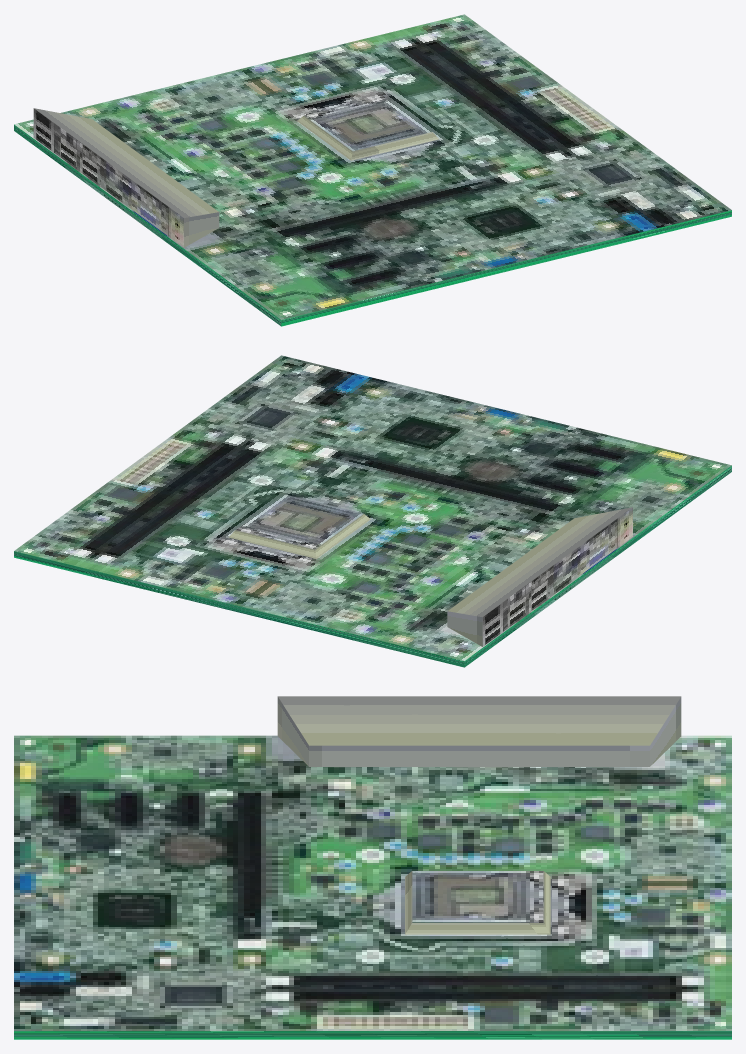
The model's file is motherboard.glb.
3 views of the same model, one above another, from view 1: azimuth 30°, elevation 25°; view 2: azimuth 150°, elevation 25°; view 3: azimuth 270°, elevation 25° (orthographic). The views are drawn at different scales.
Visible parts, largest first — view 1: Object_2, Object_3, Object_4; view 2: Object_2, Object_3, Object_4; view 3: Object_2, Object_3, Object_4.
Part boxes in pixels (x1=…): Object_2: x1=14, y1=14, x2=731, y2=326; Object_3: x1=33, y1=108, x2=219, y2=247; Object_4: x1=297, y1=96, x2=438, y2=160; Object_2: x1=14, y1=355, x2=731, y2=667; Object_3: x1=447, y1=507, x2=632, y2=646; Object_4: x1=228, y1=494, x2=370, y2=558; Object_2: x1=14, y1=735, x2=731, y2=1039; Object_3: x1=277, y1=696, x2=681, y2=766; Object_4: x1=405, y1=871, x2=550, y2=934.
Bounding box in the file's own units: 14.4 × 1.23 × 14.8.
Materials: 3 (3 with a texture image).
